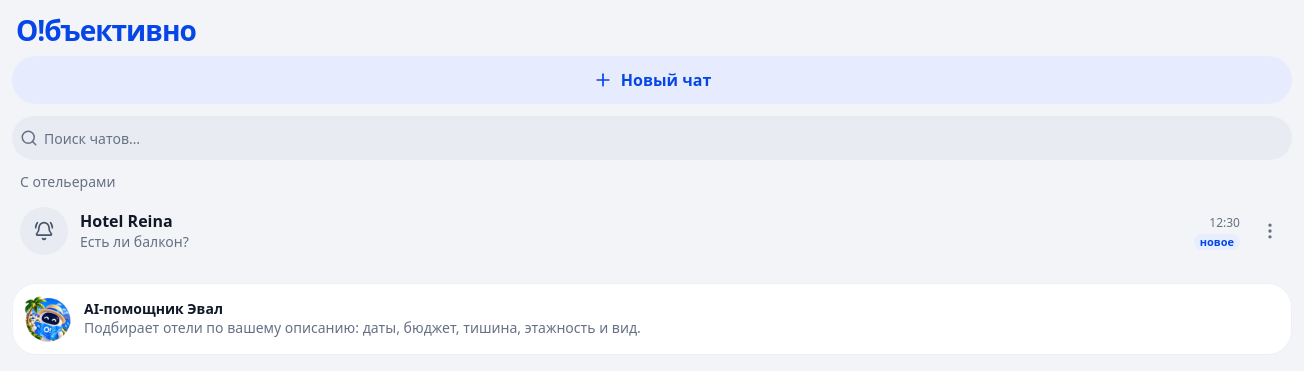
ChatList: actions of a chat with a hotelier › has «Поделиться» and «Удалить» in its menu, like Эвал’s chats
Click the button named "Действия с чатом «Hotel Reina»". click: [1270, 231]
box: [1252,213,1288,249]
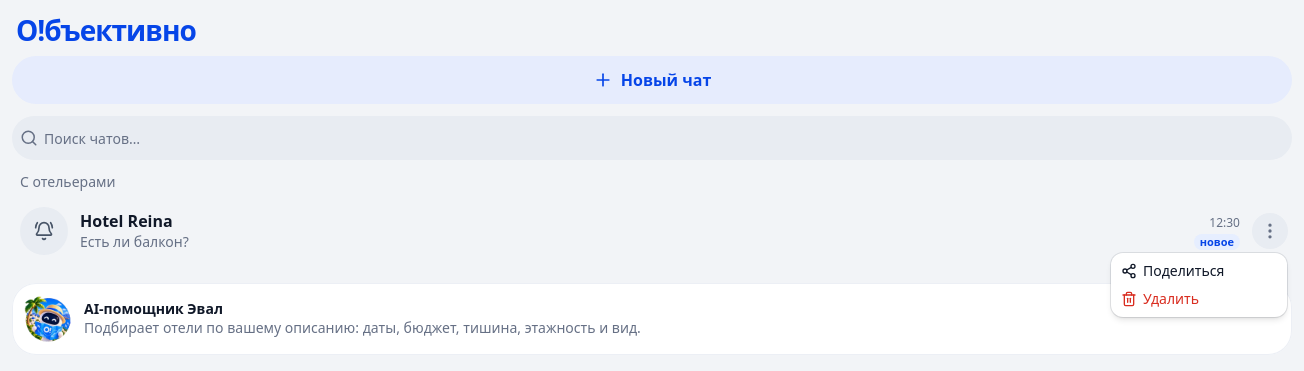
Expected: the menu item "Поделиться" is shown, [1121,261,1224,280]
Expected: the menu item "Удалить" is shown, [1121,289,1199,308]
